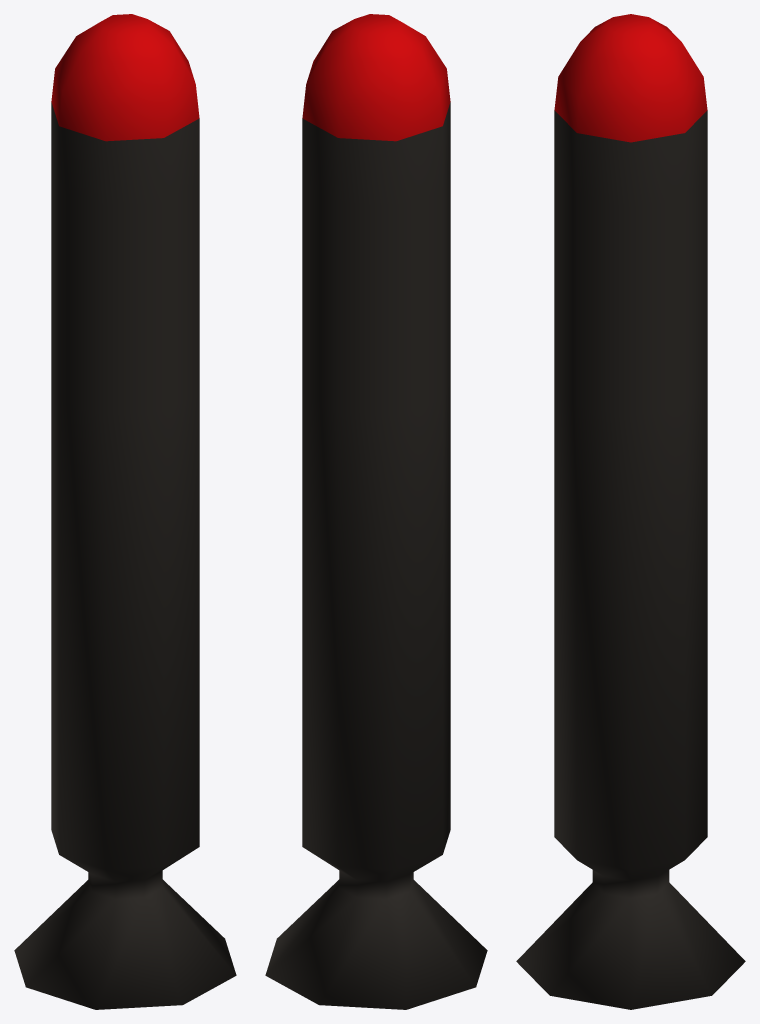
The model's file is Missile.obj.
The picture shows the model from 3 angles, left to right: view 1: azimuth 30°, elevation 25°; view 2: azimuth 150°, elevation 25°; view 3: azimuth 270°, elevation 25°; orthographic projection.
Parts seen in each view (by area): view 1: Cylinder; view 2: Cylinder; view 3: Cylinder.
Boxes of the visible parts, x1,y1,x2,y2 form: Cylinder: [14, 14, 236, 1009]; Cylinder: [265, 14, 487, 1009]; Cylinder: [516, 14, 745, 1009].
Size of the model in its own units: 3 by 13.5 by 3.
